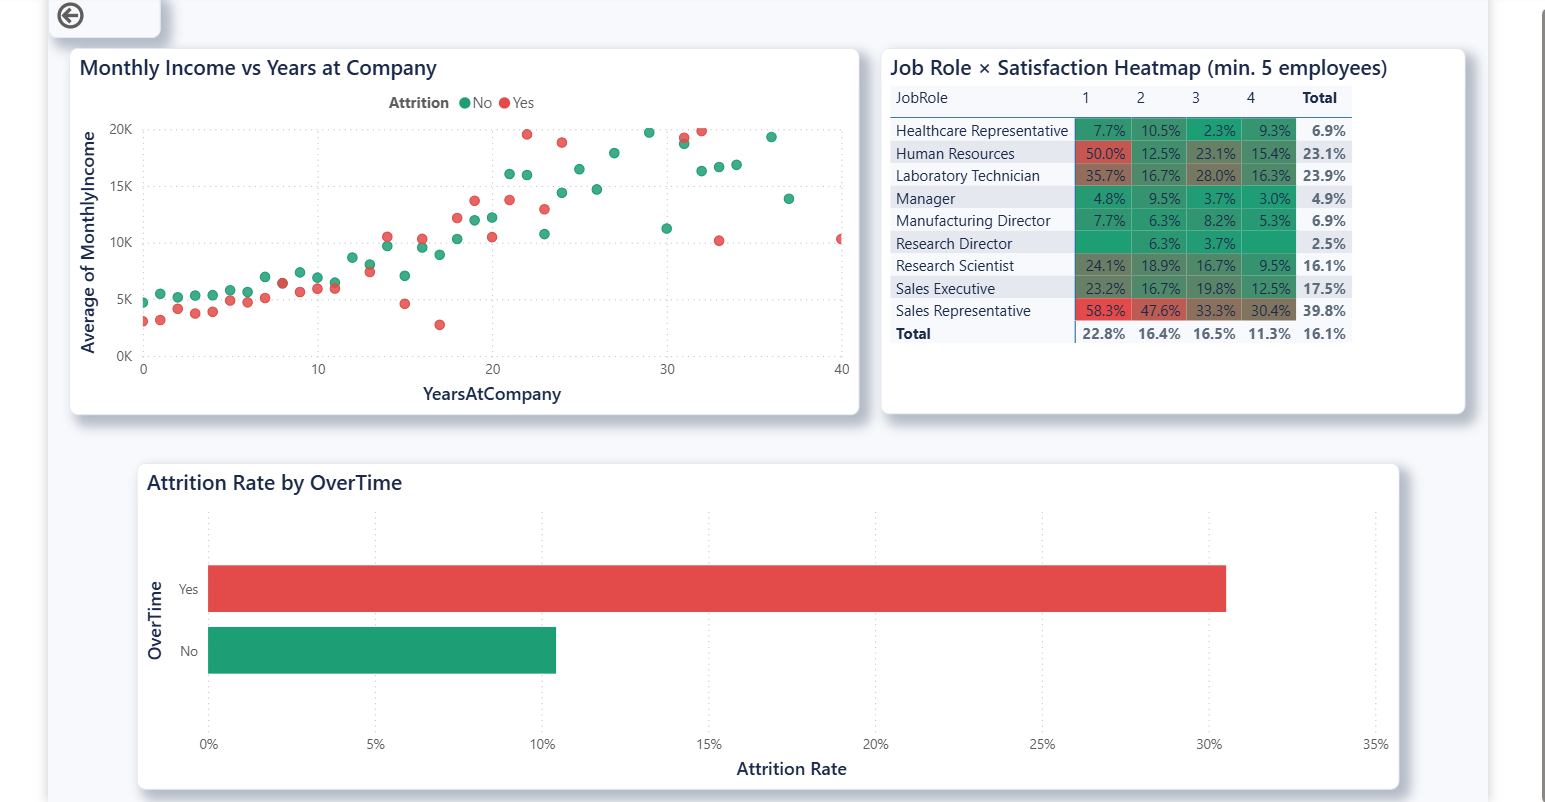

The page's visual inventory and layout, read from the dashboard file:
{"tool":"powerbi","page":{"name":"Drill Through ","canvas":[1280,720],"ordinal":1},"visuals":[{"type":"actionButton","box":[0,0,100,40],"z":0},{"type":"scatterChart","title":"Monthly Income vs Years at Company","fields":{"X":["hr_cleaned.YearsAtCompany"],"Y":["Avg(hr_cleaned.MonthlyIncome)"],"Series":["hr_cleaned.Attrition"]},"box":[18.8,48.8,702.5,326.2],"z":1000},{"type":"pivotTable","title":"Job Role × Satisfaction Heatmap (min. 5 employees)","fields":{"Rows":["hr_cleaned.JobRole"],"Columns":["hr_cleaned.JobSatisfaction"],"Values":["hr_cleaned.Attrition Rate"]},"box":[739.5,48.8,519.8,325.6],"z":2000},{"type":"clusteredBarChart","fields":{"Category":["hr_cleaned.OverTime"],"Y":["hr_cleaned.Attrition Rate"]},"box":[79.1,417.4,1122.1,290.7],"z":3000}]}

Visuals, with their boxes on the page's 1280x720 design canvas (x1, y1, x2, y2). These are canvas units, not pixel positions in the 1545x802 screenshot, which may show the page scaled, cropped or inside an application window:
actionButton: [x1=0, y1=0, x2=100, y2=40]
"Monthly Income vs Years at Company" scatterChart: [x1=19, y1=49, x2=721, y2=375]
"Job Role × Satisfaction Heatmap (min. 5 employees)" pivotTable: [x1=740, y1=49, x2=1259, y2=374]
clusteredBarChart - hr_cleaned.OverTime x hr_cleaned.Attrition Rate: [x1=79, y1=417, x2=1201, y2=708]
